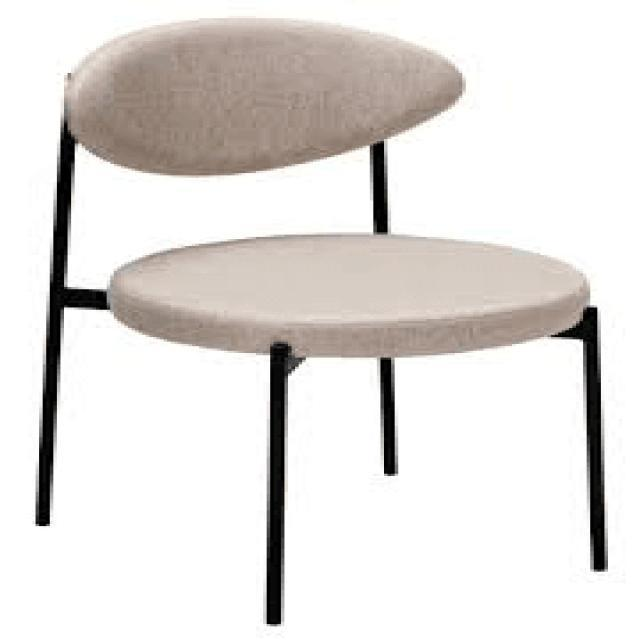chair: (21, 9, 614, 626), (61, 15, 612, 360)
